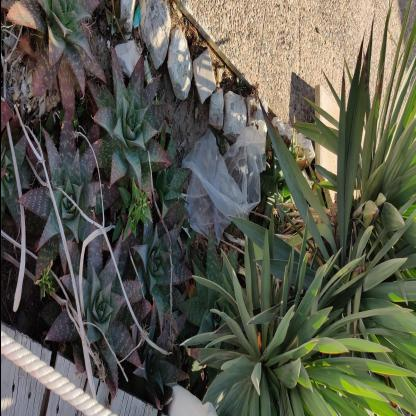plastik: (180, 121, 266, 249)
